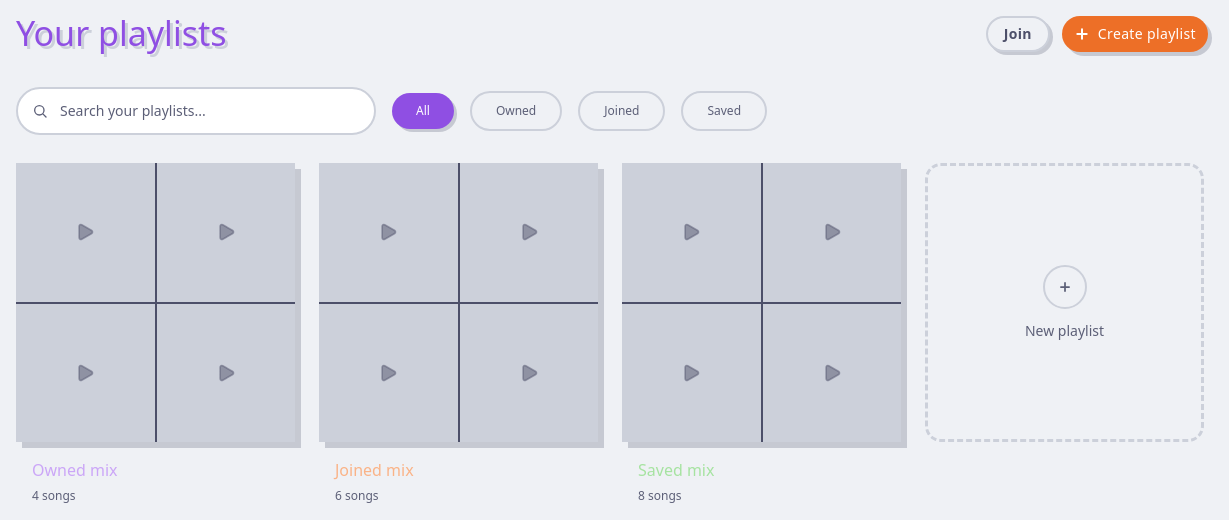
Test case: PlaylistsPage library tabs › lists saved playlists on the Saved tab
Click the button "Owned" at (516, 111), box [470, 91, 562, 131]
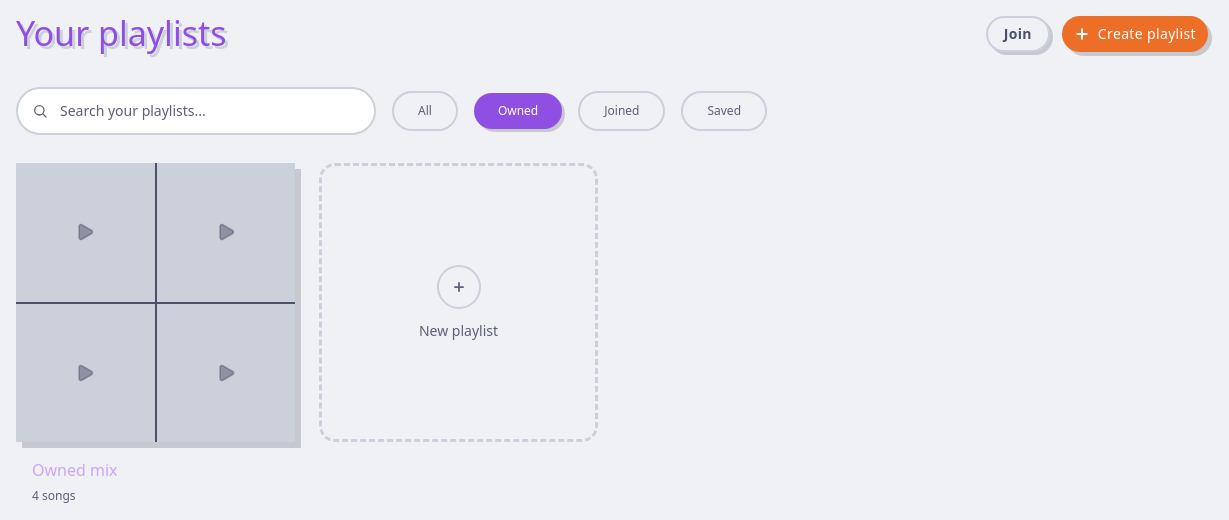
Check: the link "Saved mix" is gone
Click the button "Saved" at (724, 111), box [682, 91, 767, 131]
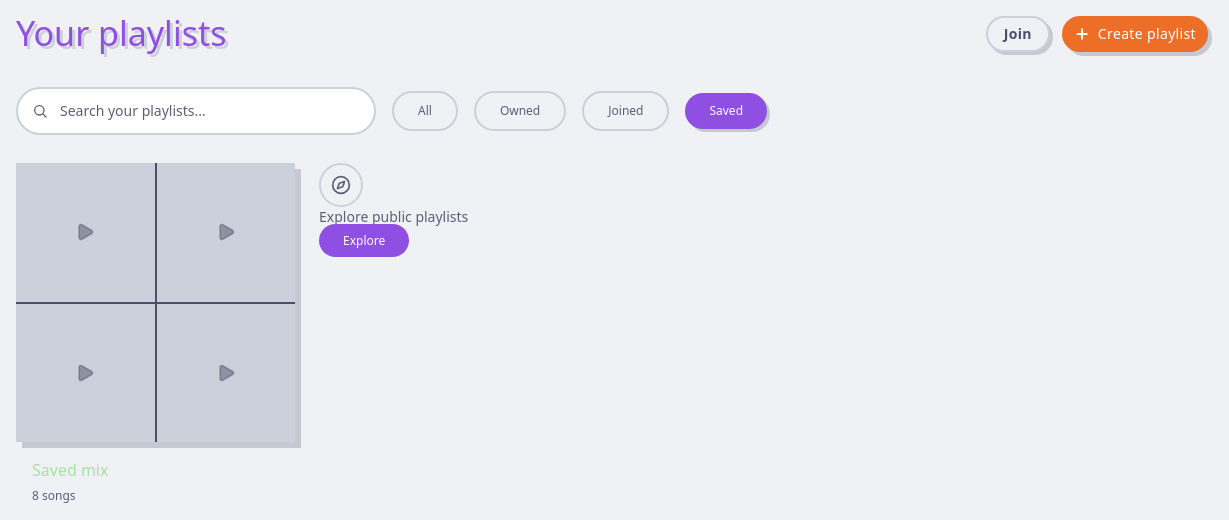
Check: the link "Joined mix" is not shown
Check: the text "Saved mix" is shown, box [32, 459, 108, 481]
Check: the link "Owned mix" is gone
